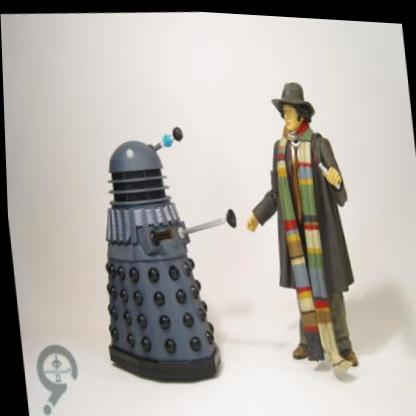dalek: (53, 98, 257, 406)
person: (212, 55, 410, 415)
